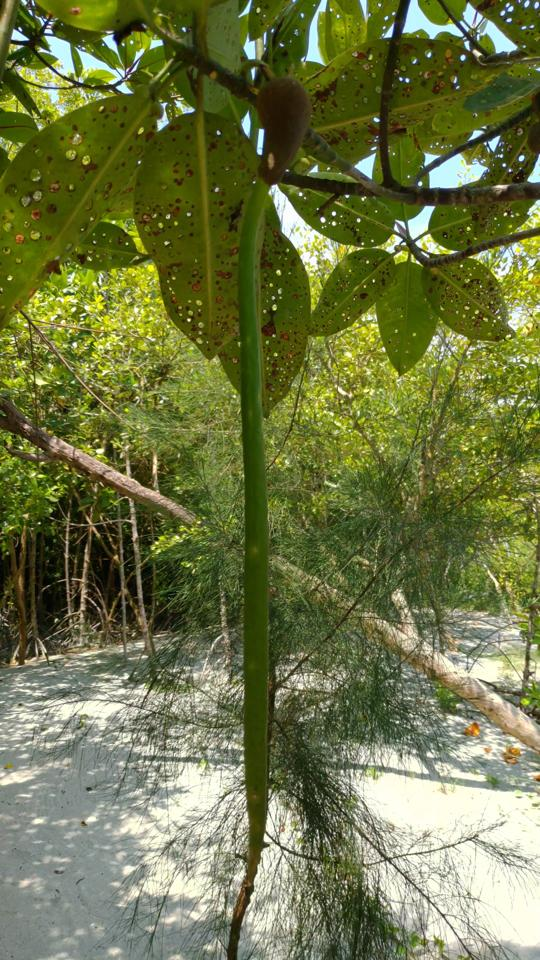mentah: (220, 60, 334, 919)
